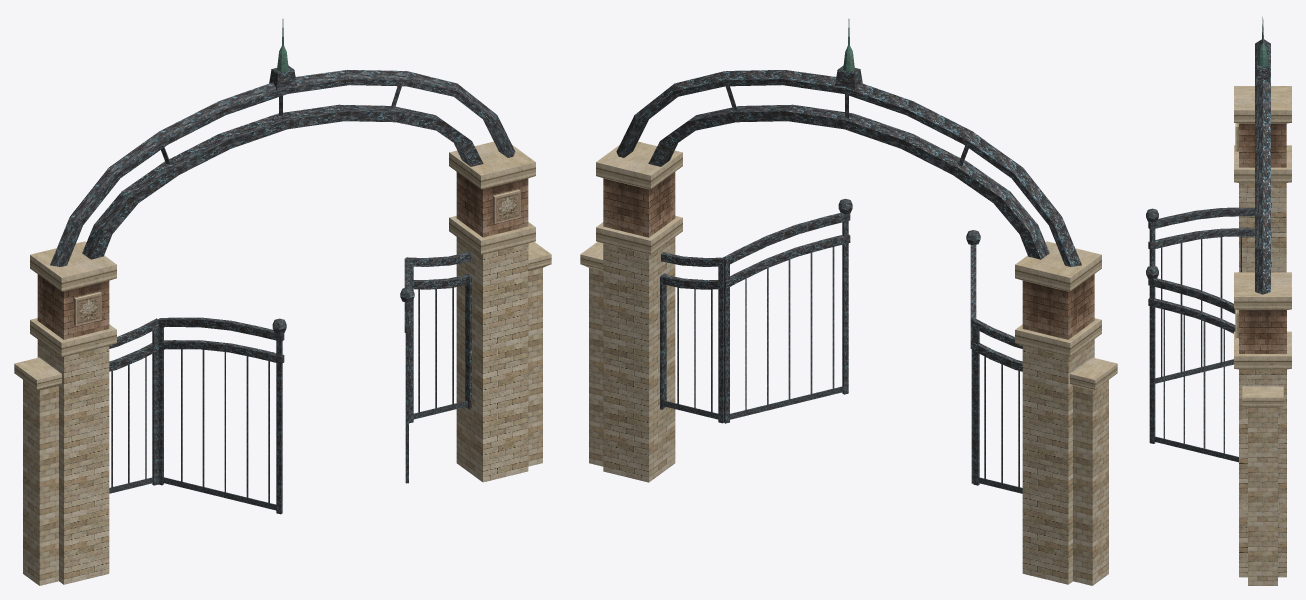
The model's file is thm_nboo_imprv_wide_gate_s01_l0.fbx.
3 renders of one model, left to right at view 1: azimuth 30°, elevation 25°; view 2: azimuth 150°, elevation 25°; view 3: azimuth 270°, elevation 25°, orthographic. The views are drawn at different scales.
Visible parts, largest first — view 1: mesh_node; view 2: mesh_node; view 3: mesh_node.
Part boxes in pixels (left/top/right/bottom): mesh_node: left=14, top=19, right=551, bottom=585; mesh_node: left=580, top=19, right=1117, bottom=585; mesh_node: left=1146, top=17, right=1291, bottom=585.
Bounding box in the file's own units: 16.55 × 15.49 × 4.45.
